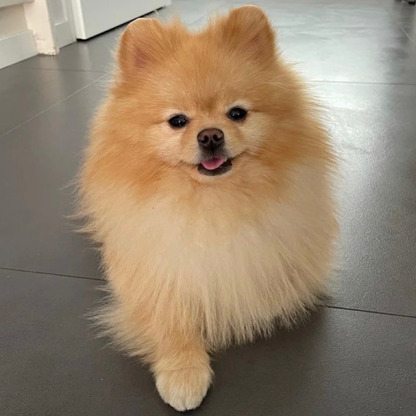Pomeranian: (67, 17, 362, 398)
